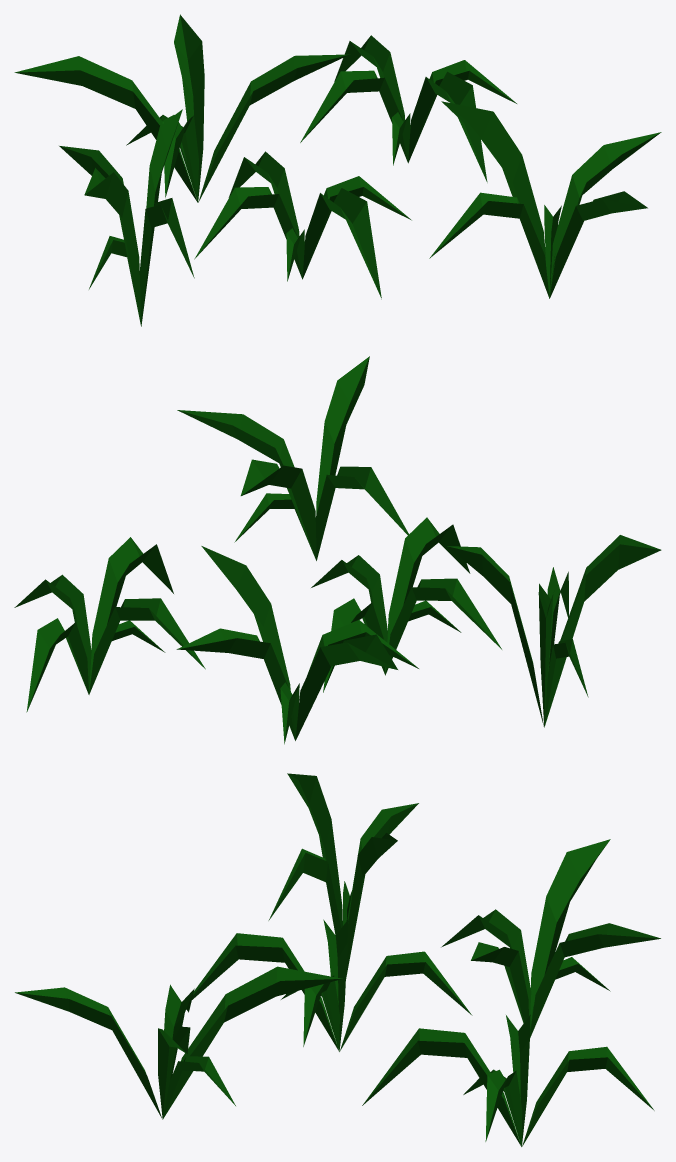
The model's file is grass.obj.
3 renders of one model, top to bottom at view 1: azimuth 30°, elevation 25°; view 2: azimuth 150°, elevation 25°; view 3: azimuth 270°, elevation 25°, orthographic. The views are drawn at different scales.
Parts seen in each view (by area): view 1: polySurface10, polySurface11, polySurface21, polySurface8, polySurface12; view 2: polySurface10, polySurface11, polySurface8, polySurface21, polySurface12; view 3: polySurface11, polySurface10, polySurface8, polySurface21, polySurface12.
Boxes of the visible parts, x1=… form: polySurface10: x1=429, y1=101, x2=661, y2=298; polySurface11: x1=14, y1=14, x2=349, y2=202; polySurface21: x1=194, y1=151, x2=411, y2=299; polySurface8: x1=300, y1=35, x2=516, y2=182; polySurface12: x1=59, y1=109, x2=194, y2=326; polySurface10: x1=177, y1=356, x2=408, y2=560; polySurface11: x1=176, y1=546, x2=418, y2=744; polySurface8: x1=14, y1=537, x2=205, y2=712; polySurface21: x1=311, y1=517, x2=501, y2=692; polySurface12: x1=447, y1=535, x2=661, y2=727; polySurface11: x1=441, y1=839, x2=660, y2=1037; polySurface10: x1=15, y1=966, x2=342, y2=1119; polySurface8: x1=362, y1=1014, x2=654, y2=1146; polySurface21: x1=192, y1=919, x2=472, y2=1051; polySurface12: x1=268, y1=773, x2=418, y2=978.
Bounding box in the file's own units: 4.19 × 1.39 × 4.47.
